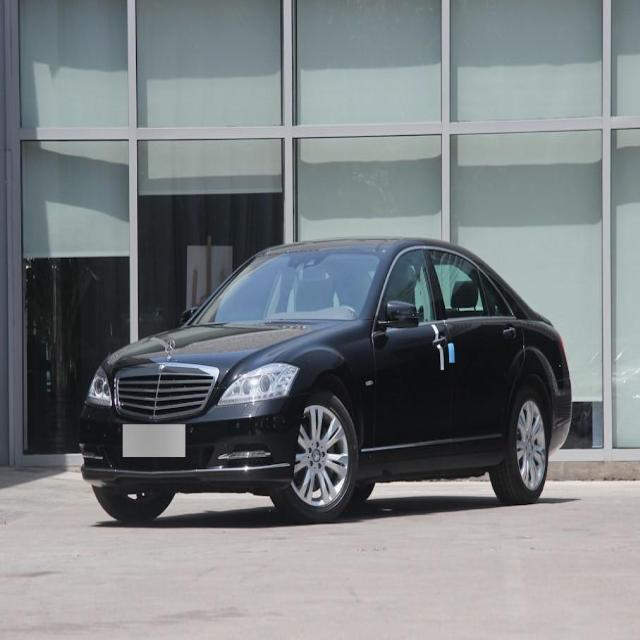door: (424, 241, 526, 466)
front_bumper: (81, 396, 300, 488)
front_glass: (191, 246, 381, 326)
front_left_side_door: (368, 242, 452, 474)
front_left_side_light: (214, 360, 298, 406)
front_left_side_mirror: (382, 298, 423, 334)
front_right_side_light: (88, 364, 115, 412)
wheel: (277, 389, 359, 516), (498, 387, 548, 500)
